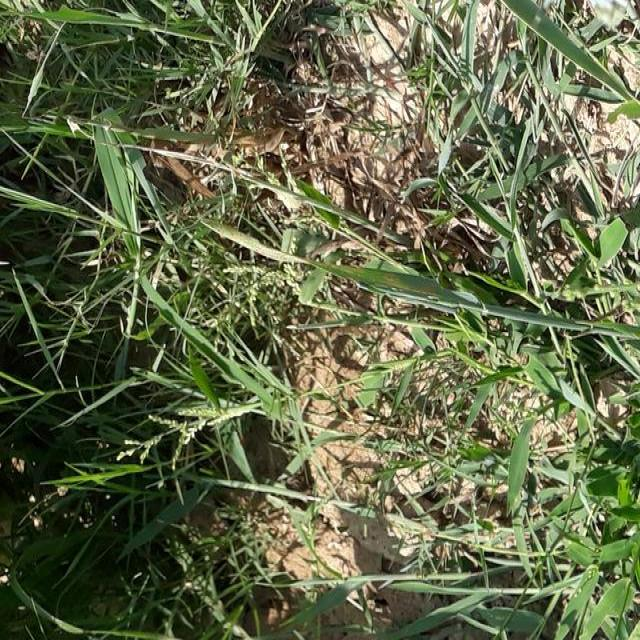weed: (0, 0, 298, 626), (420, 11, 640, 640)
